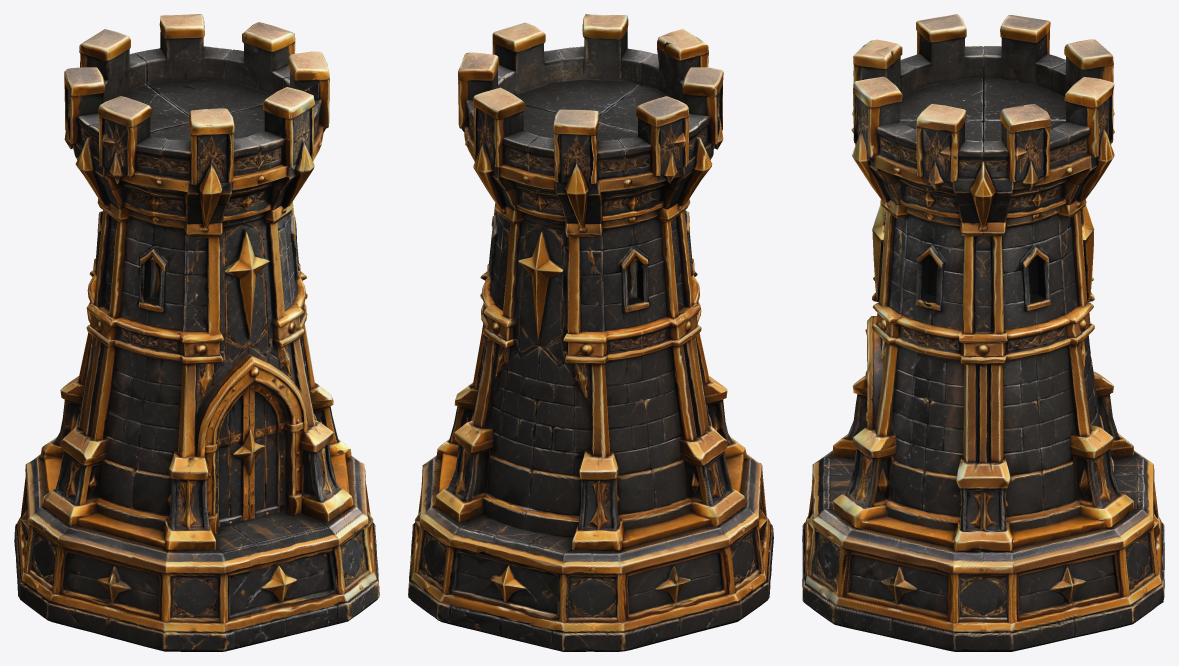
The model's file is rook_b.glb.
3 views of the same model, side by side, from view 1: azimuth 30°, elevation 25°; view 2: azimuth 150°, elevation 25°; view 3: azimuth 270°, elevation 25° (orthographic).
Visible parts, largest first — view 1: tripo_node_ddb6a5ad-a41c-4cd4-bc30-0d78ddc4002a; view 2: tripo_node_ddb6a5ad-a41c-4cd4-bc30-0d78ddc4002a; view 3: tripo_node_ddb6a5ad-a41c-4cd4-bc30-0d78ddc4002a.
Part boxes in pixels (x1,y1,x2,y2): tripo_node_ddb6a5ad-a41c-4cd4-bc30-0d78ddc4002a: [14, 14, 379, 651]; tripo_node_ddb6a5ad-a41c-4cd4-bc30-0d78ddc4002a: [408, 14, 773, 651]; tripo_node_ddb6a5ad-a41c-4cd4-bc30-0d78ddc4002a: [802, 14, 1164, 651].
Size of the model in its own units: 0.6687 by 0.9796 by 0.6348.
Materials: 1 (1 with a texture image).
